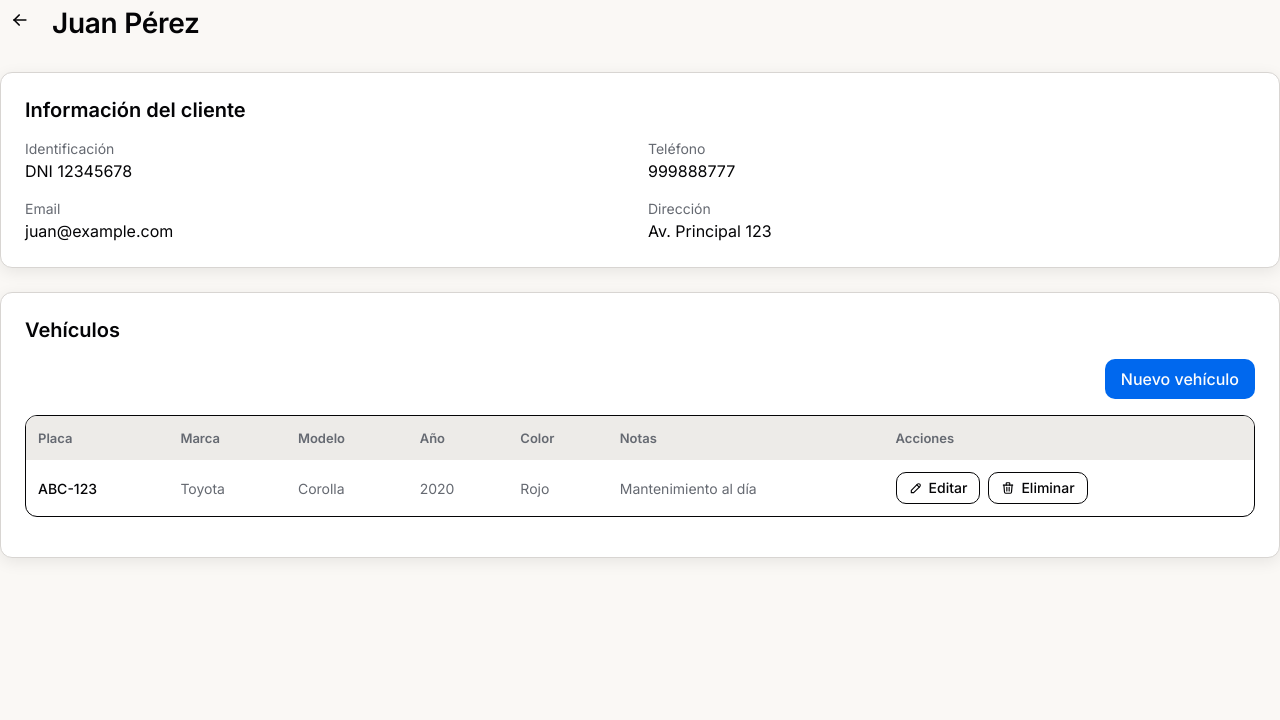
Test: ClientDetailPage › does not delete a vehicle when the dialog is cancelled
The width and height of the screenshot is (1280, 720).
Click the button with aria-label "Eliminar ABC-123" at (1038, 488), box [988,472,1088,504]
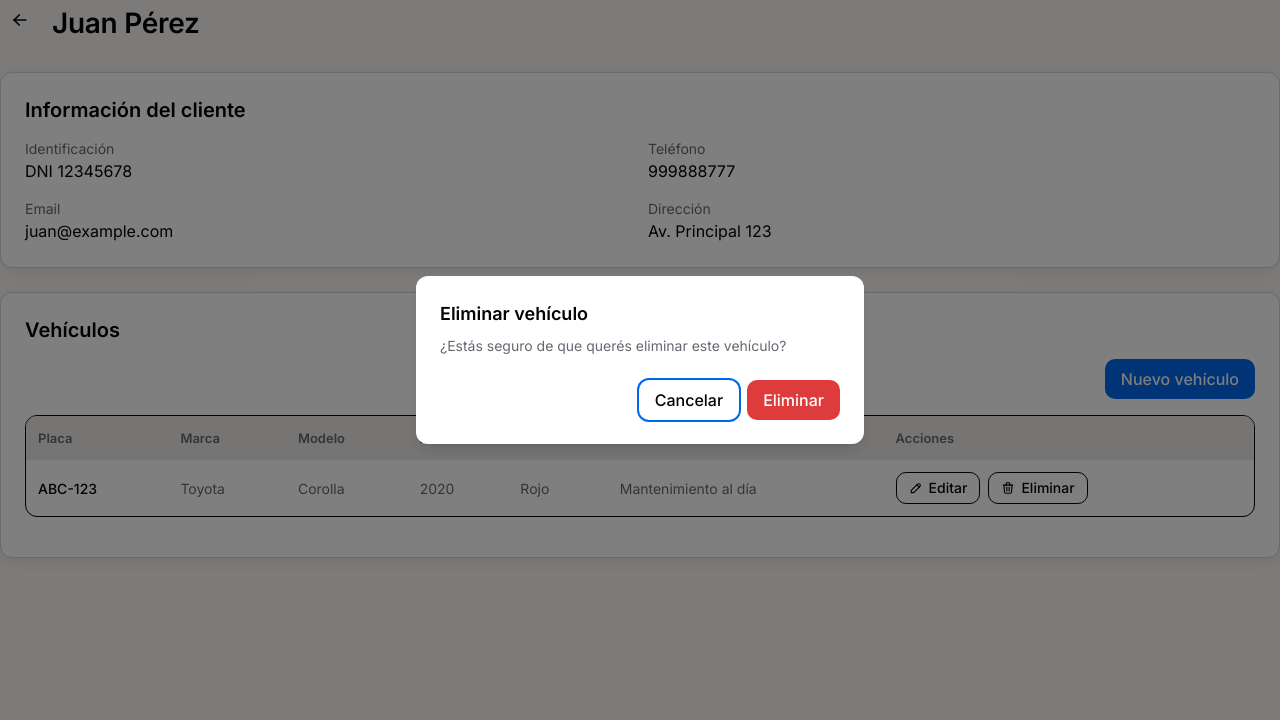
Click the button "Cancelar" at (689, 400), box [639,380,739,420]
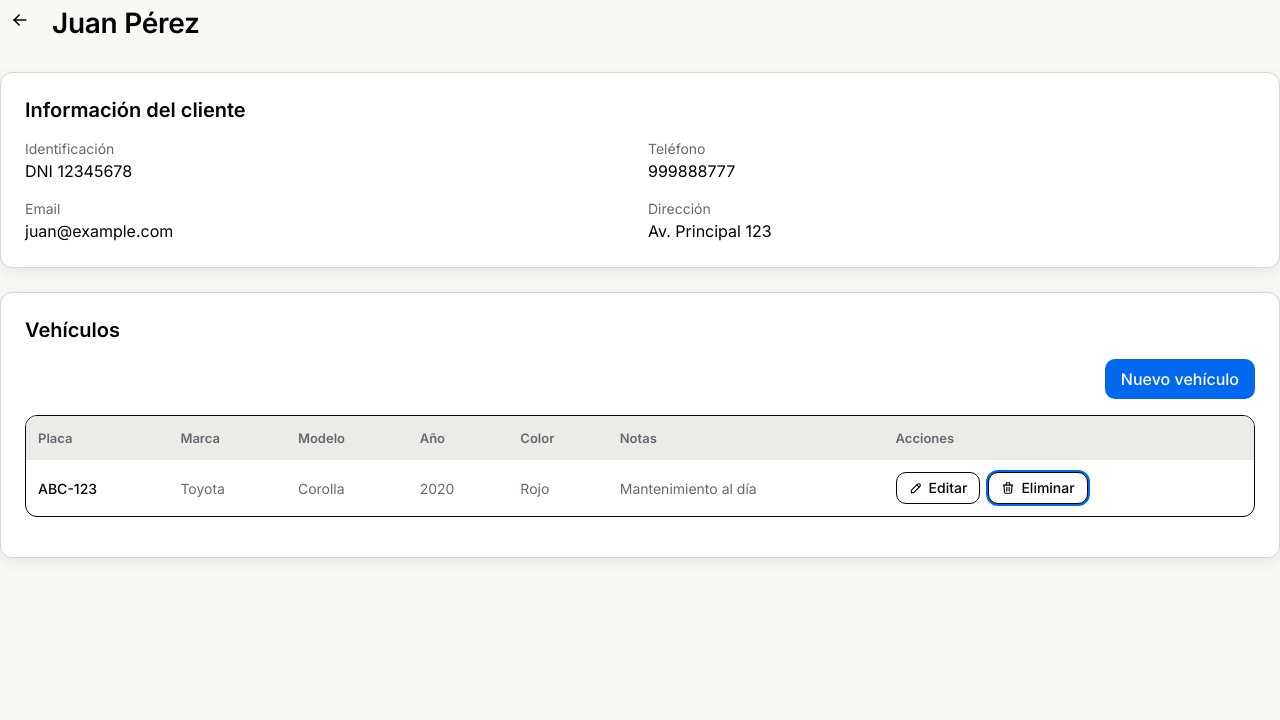
Now the heading "Eliminar vehículo" is gone
